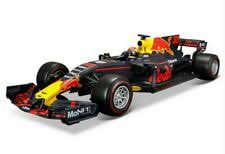FormulaOneCar: (5, 31, 221, 127)
